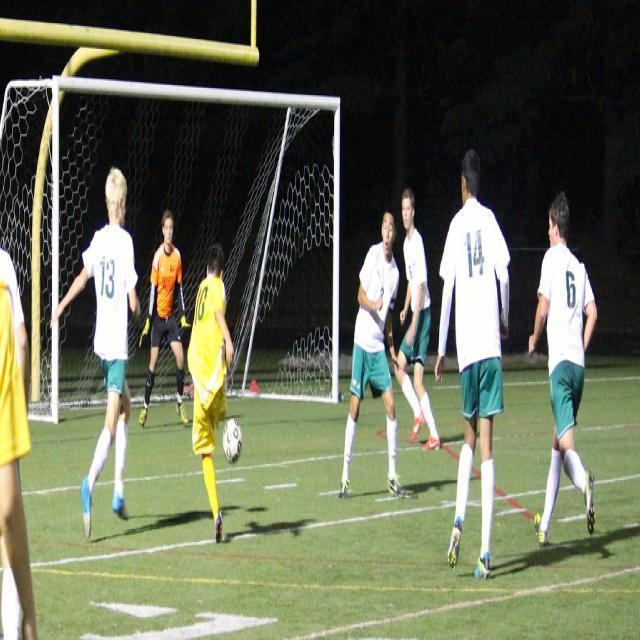football: (211, 417, 258, 460)
